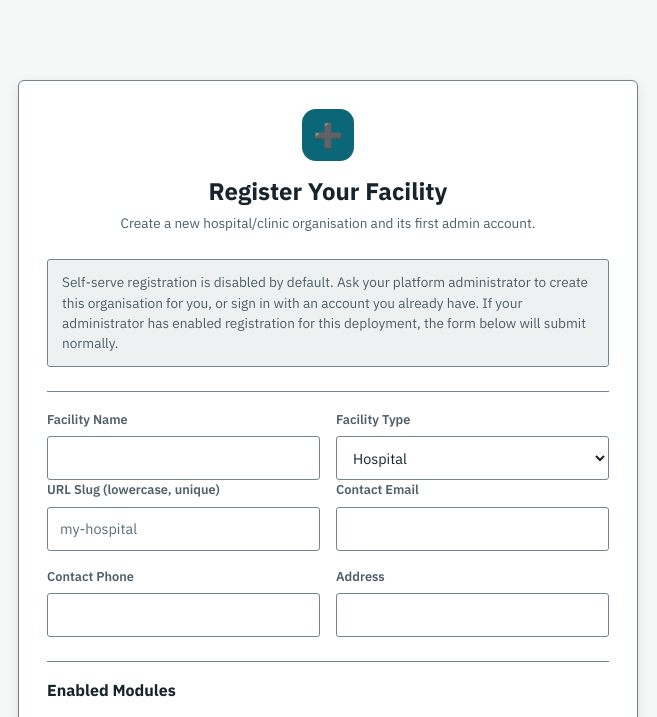
Scenario: Onboarding page when self-serve registration is closed › still surfaces a genuine server error message
Type "Rogue Hospital" into the field labelled "Facility Name" at (184, 458), box [47, 436, 320, 480]
Type "rogue" into the field labelled "URL Slug (lowercase, unique)" at (184, 529), box [47, 507, 320, 551]
Type "c@x.test" into the field labelled "Contact Email" at (472, 529), box [336, 507, 609, 551]
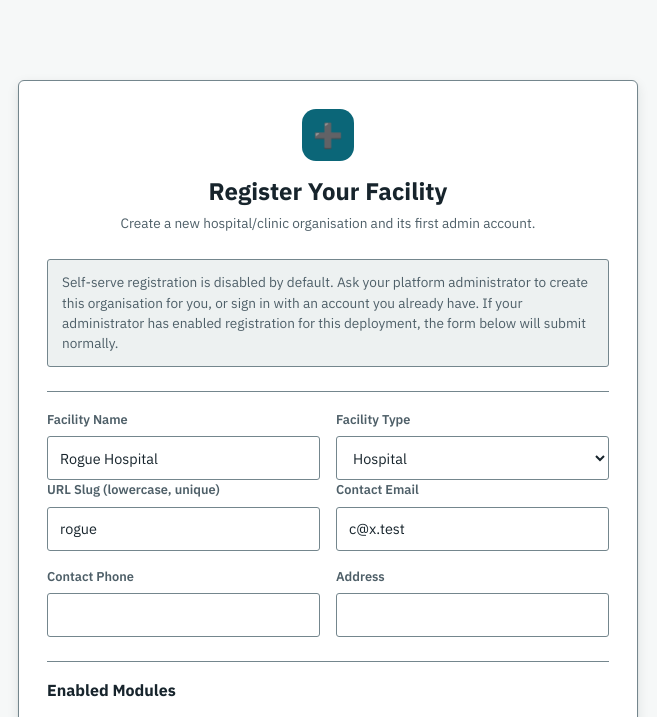
Type "+919800000000" into the field labelled "Contact Phone" at (184, 615), box [47, 593, 320, 637]
(page scrolled)
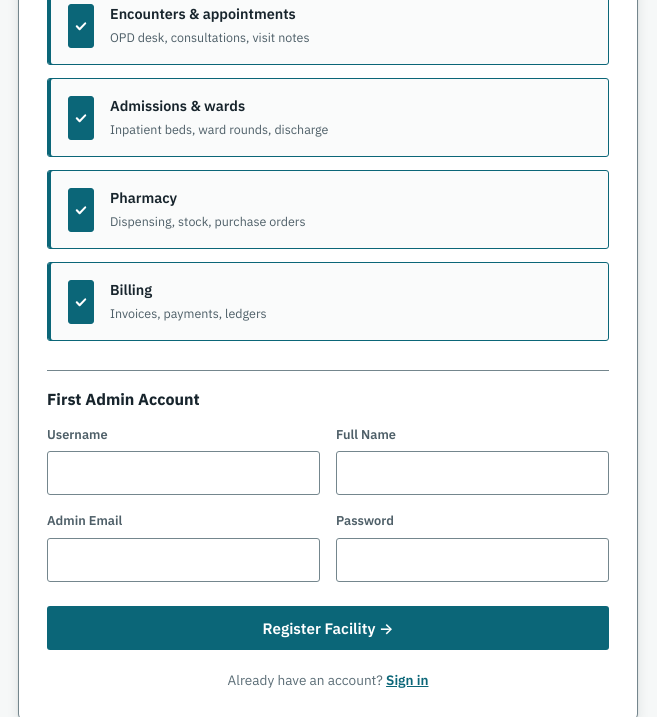
Type "rogue.admin" into the field labelled "Username" at (184, 473), box [47, 451, 320, 495]
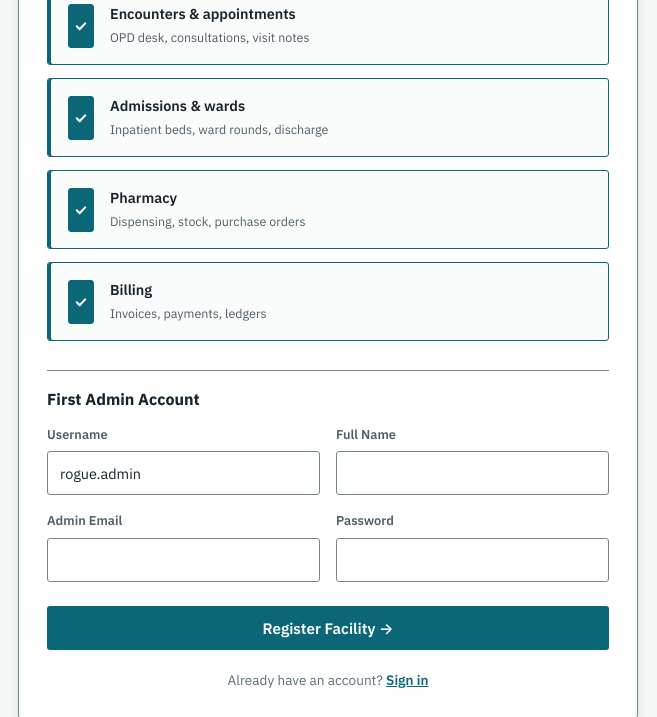
Type "Sup3rSecret!pass" into the password field labelled "Password" at (472, 560), box [336, 538, 609, 582]
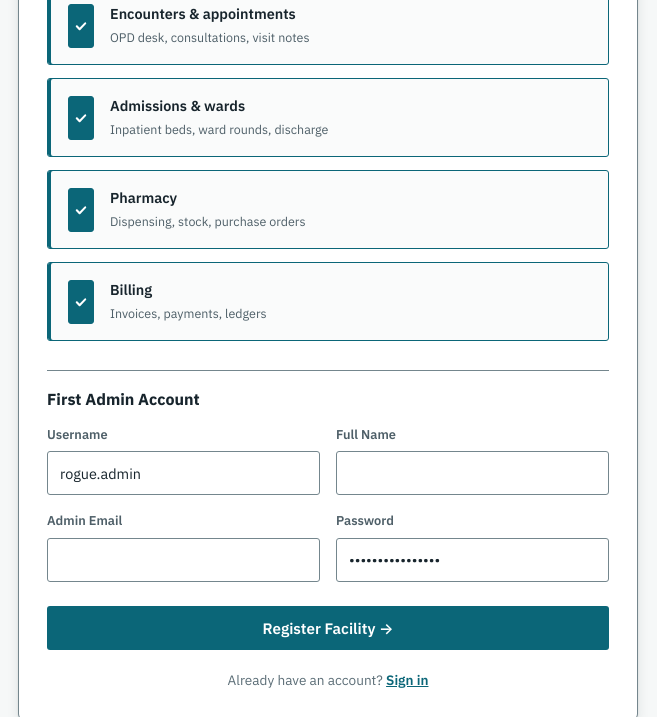
Type "a@x.test" into the field labelled "Admin Email" at (184, 560), box [47, 538, 320, 582]
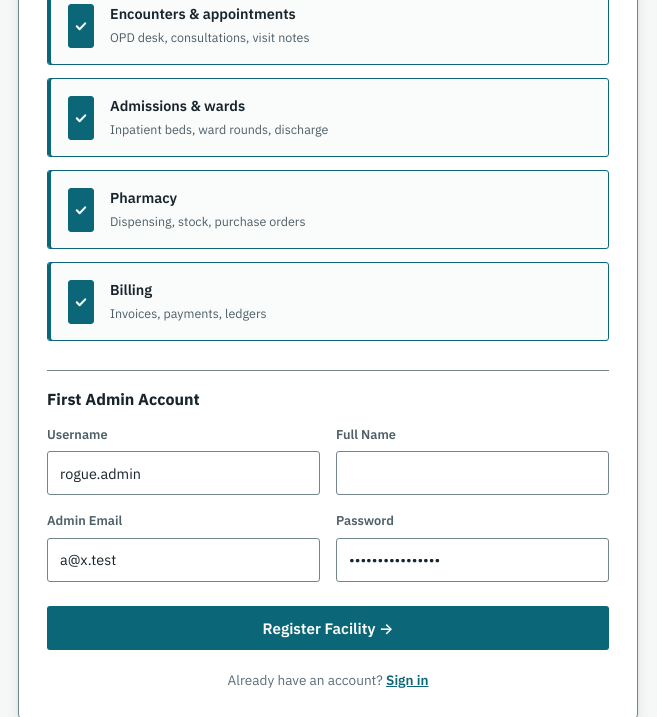
Click the button "Register Facility →" at (328, 628), box [47, 606, 609, 650]
(page scrolled)
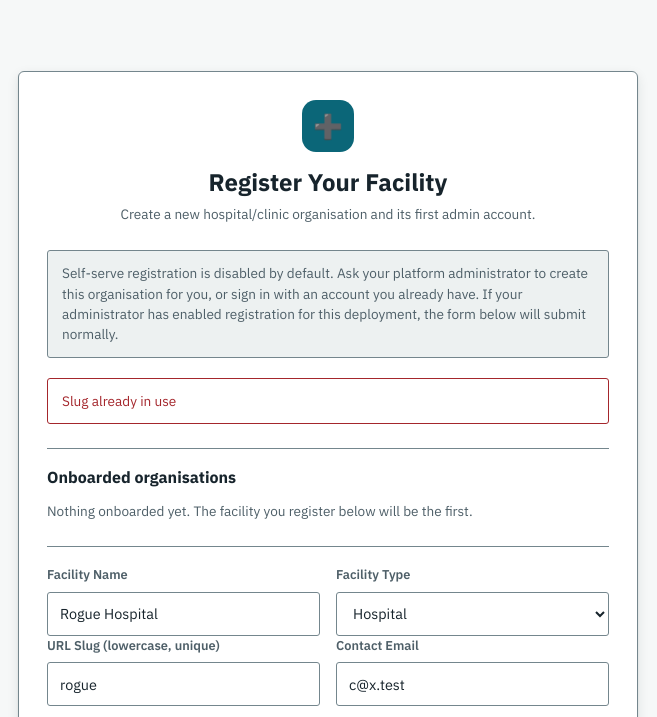
Result: the message "Slug already in use" is shown at [47, 378, 609, 424]
